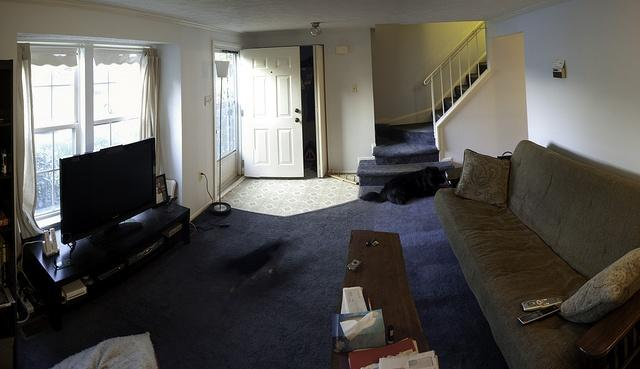AIO PC-Monitor-TV: (59, 135, 156, 244)
